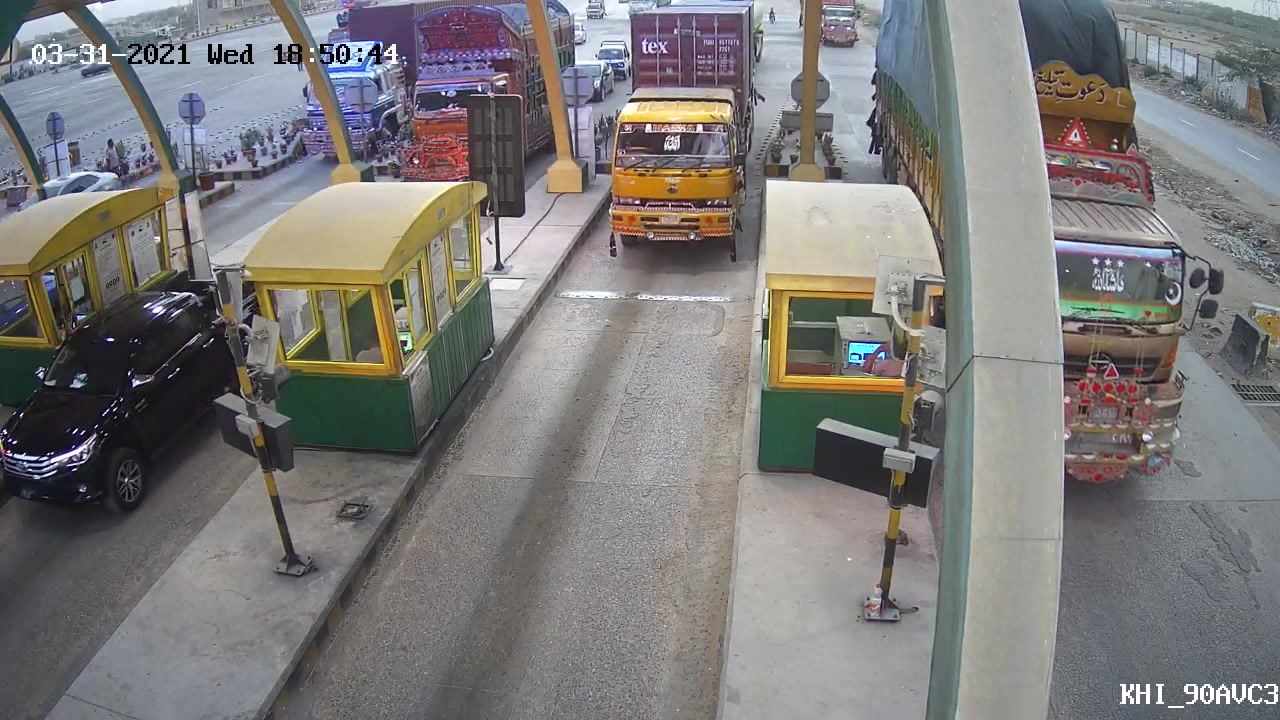F6: (591, 3, 766, 260)
